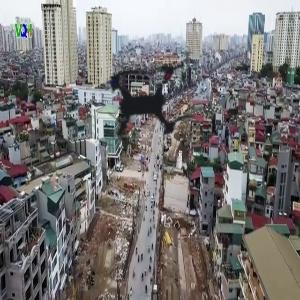drone: (50, 9, 247, 206)
